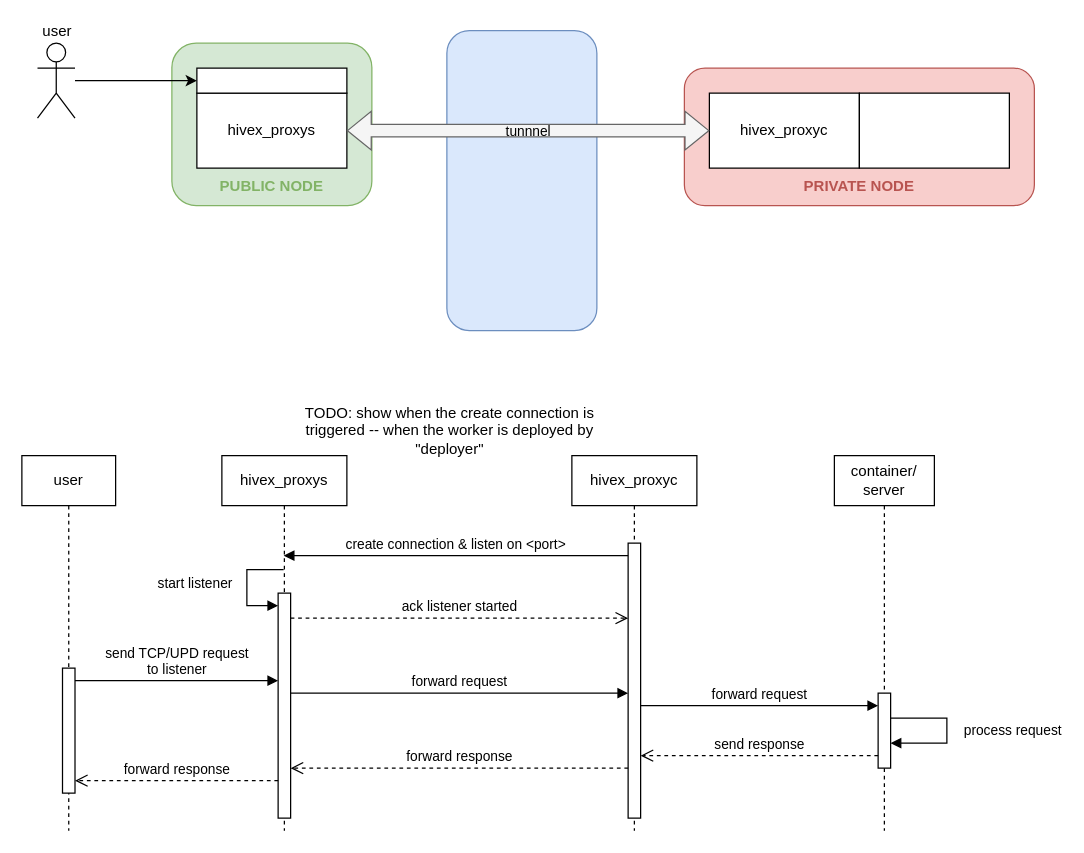
The diagram is 1084 pixels wide and 853 high, and some of its shapes have lost their labels. The shapes that lost their labels are listed below. From the top down, each one's box as (x1, y1, x2, y2) in pixels, then its label:
(196, 67, 347, 93): listener
(858, 92, 1009, 168): hivex worker
(446, 29, 597, 331): Internet filewall NAT
